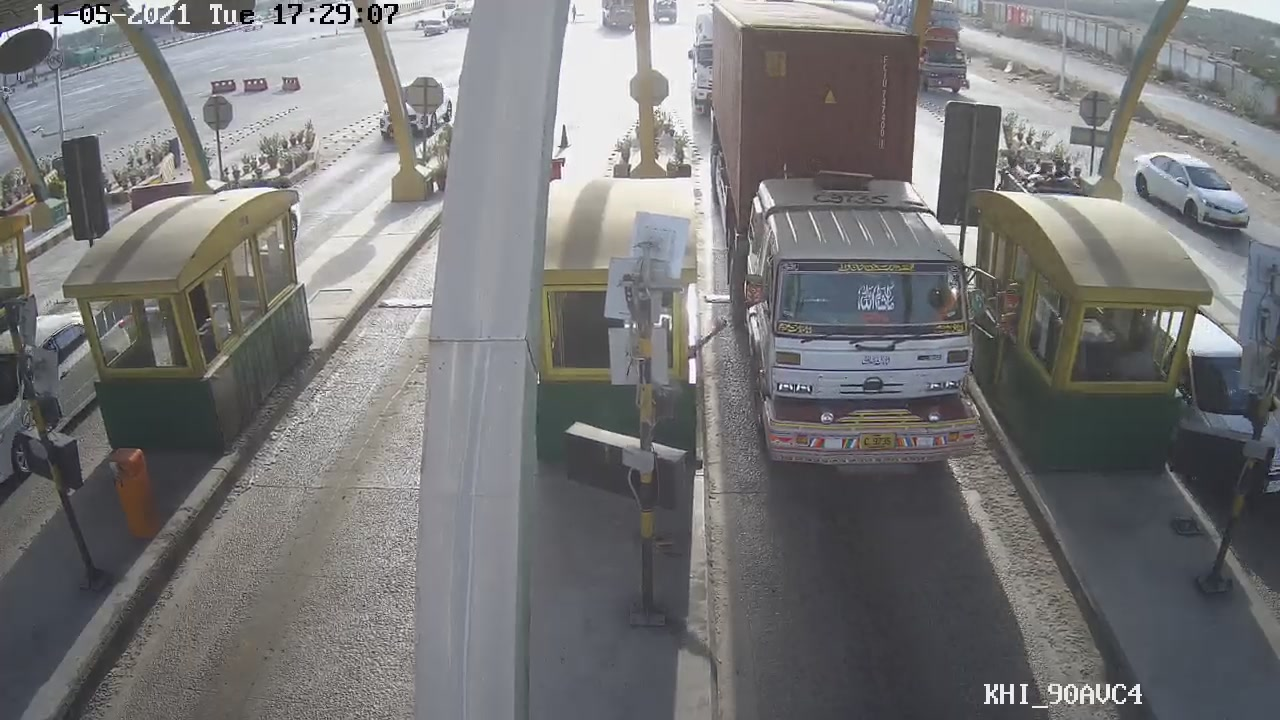F6: (707, 17, 975, 481)
